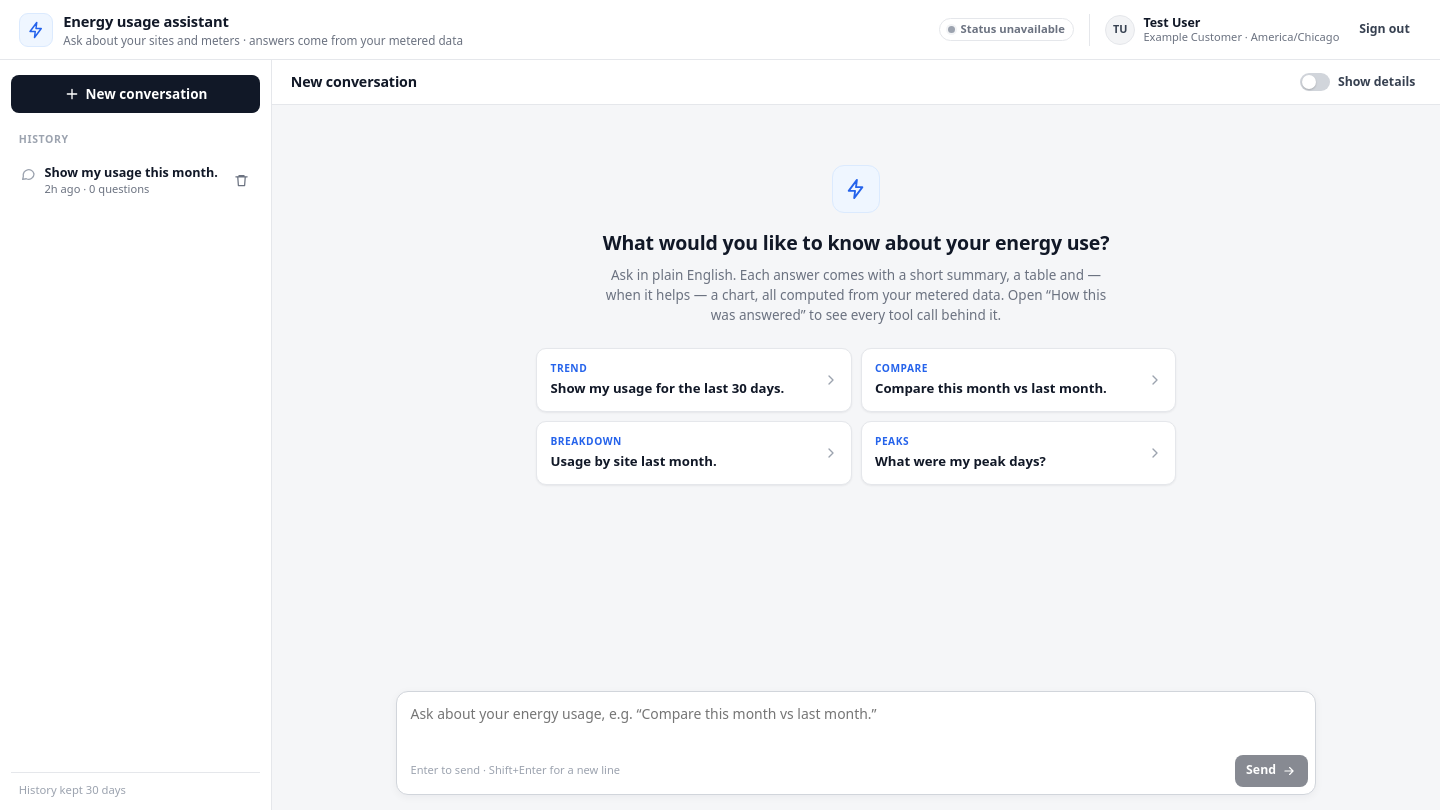
it: conversation history › explains when an older conversation has no saved turns
What coordinates should you click on to do the following:
click the button "Show my usage this month. 2h ago · 0 questions"
I would click on:
 (119, 181)
Its box is left=11, top=156, right=226, bottom=205.
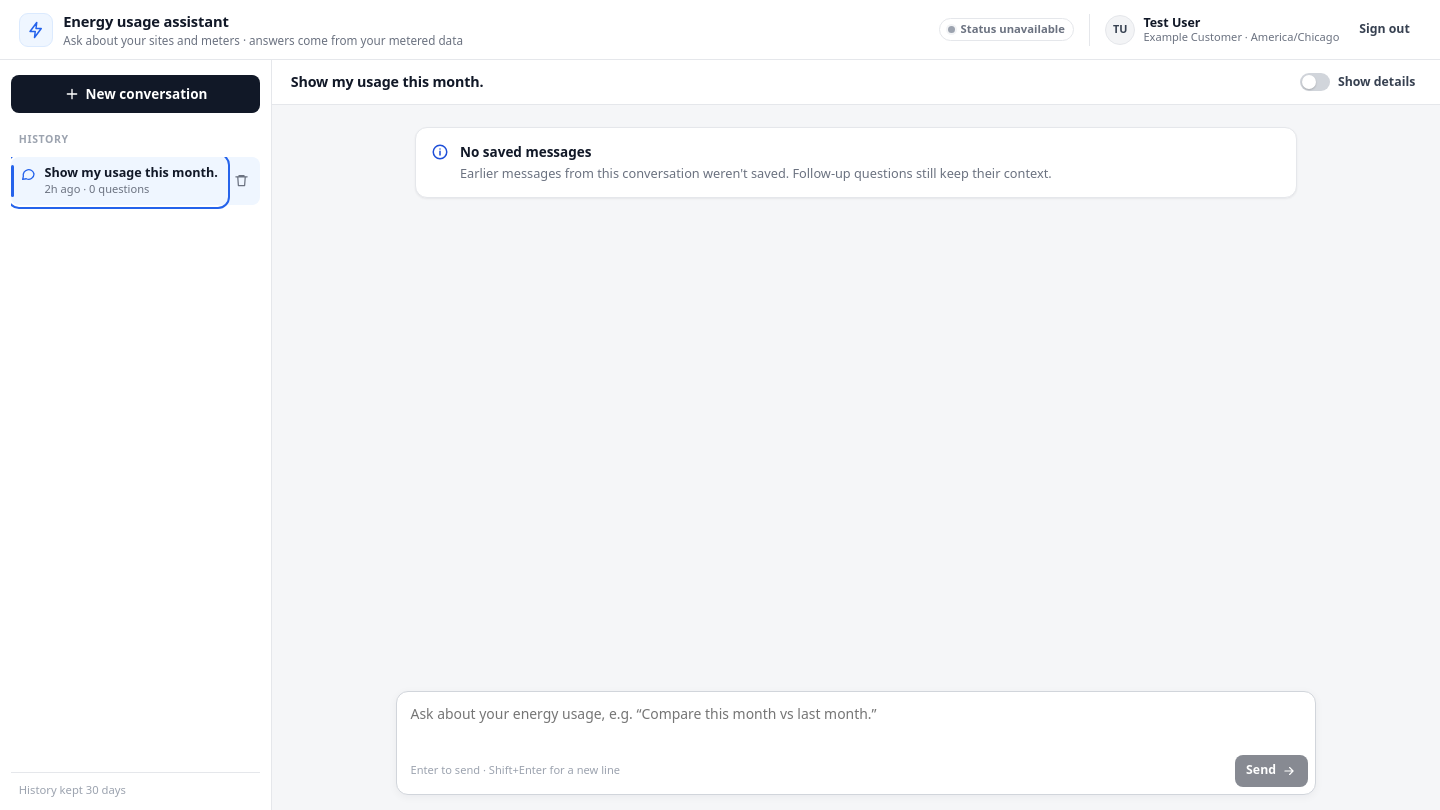
Check: the text "Earlier messages from this conversation weren't saved" is shown, box left=460, top=164, right=1052, bottom=182
